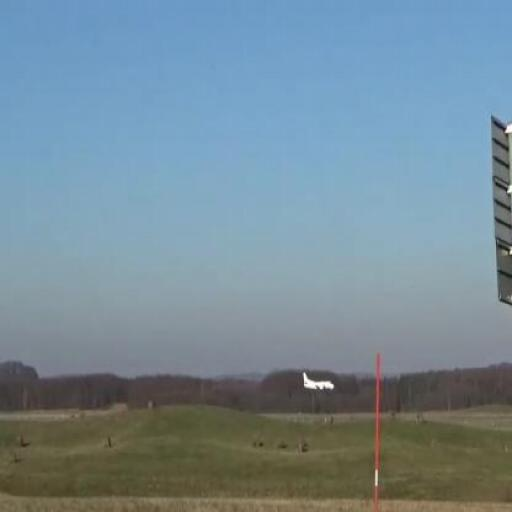aircraft: (298, 367, 336, 400)
